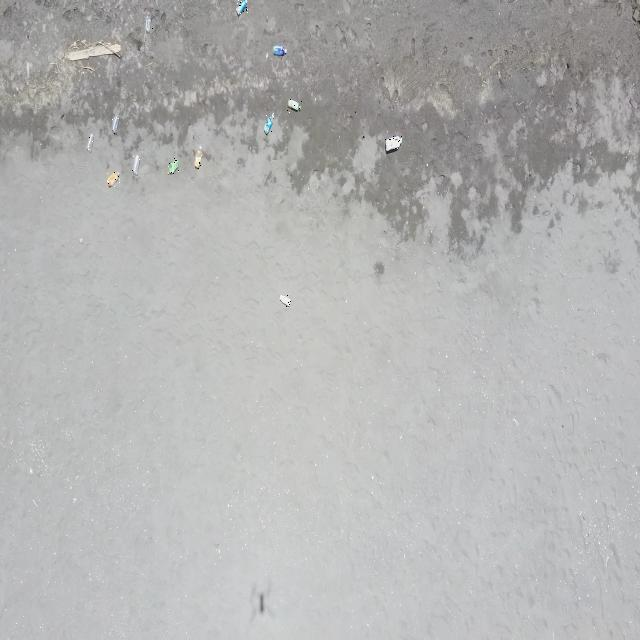plastic-bottle: (385, 135, 402, 152), (287, 96, 302, 112), (106, 172, 121, 188), (264, 113, 274, 135), (236, 0, 248, 18), (167, 158, 179, 176), (195, 145, 202, 170), (273, 45, 287, 57), (279, 295, 291, 307)
takeaway-cup: (131, 154, 141, 178), (145, 10, 153, 34), (111, 114, 120, 135), (86, 133, 94, 154)
